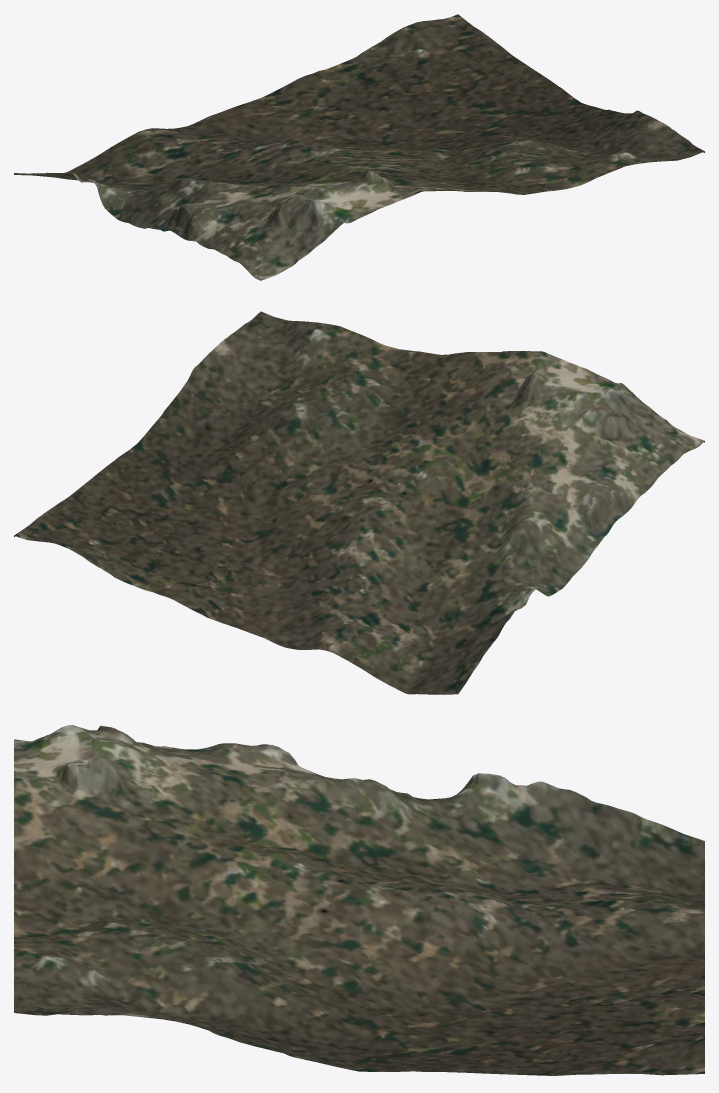
3 renders of one model, top to bottom at view 1: azimuth 30°, elevation 25°; view 2: azimuth 150°, elevation 25°; view 3: azimuth 270°, elevation 25°, orthographic. The views are drawn at different scales.
Size of the model in its own units: 250 by 75.64 by 241.
Materials: 1 (1 with a texture image).
